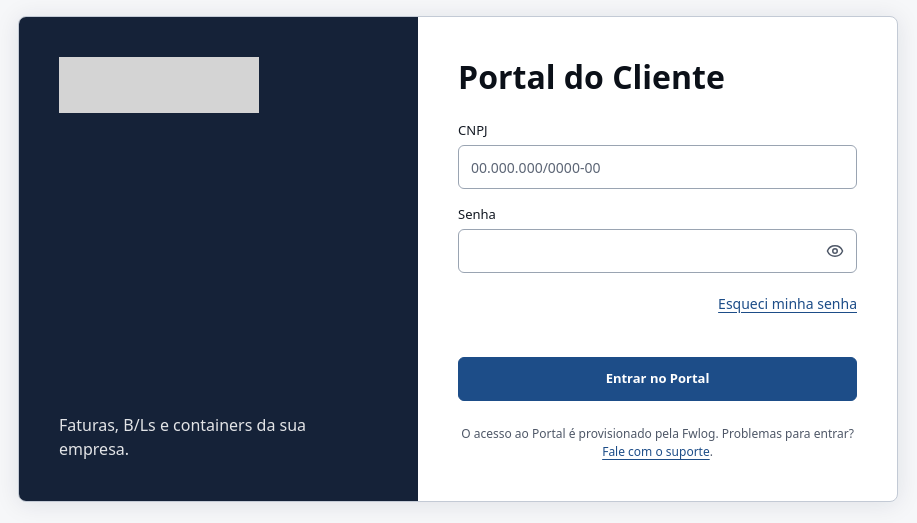
Test: normaliza um CNPJ alfanumérico colado antes de autenticar
Type "12.ABC.345/01DE-35" into the field with placeholder "00.000.000/0000-00" at (658, 167), box x1=458 y1=145 x2=857 y2=189
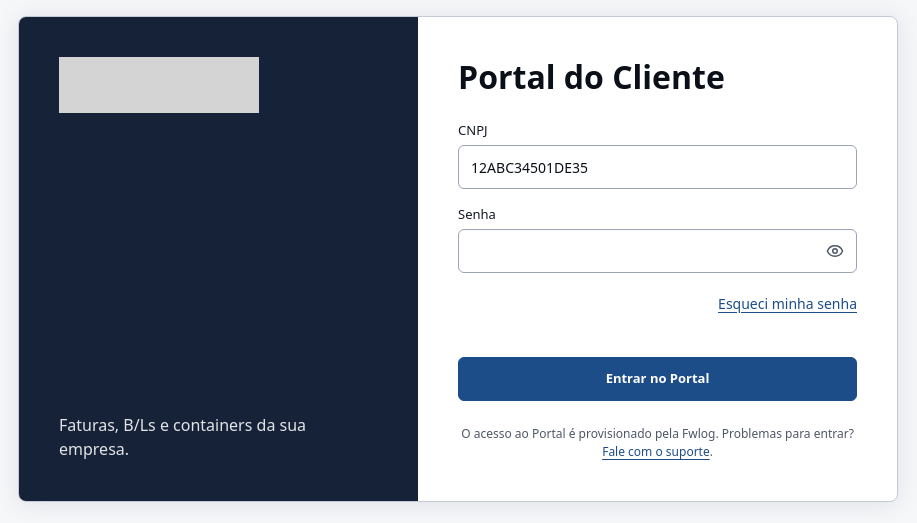
Check: the field with placeholder "00.000.000/0000-00" holds "12ABC34501DE35", box x1=458 y1=145 x2=857 y2=189
